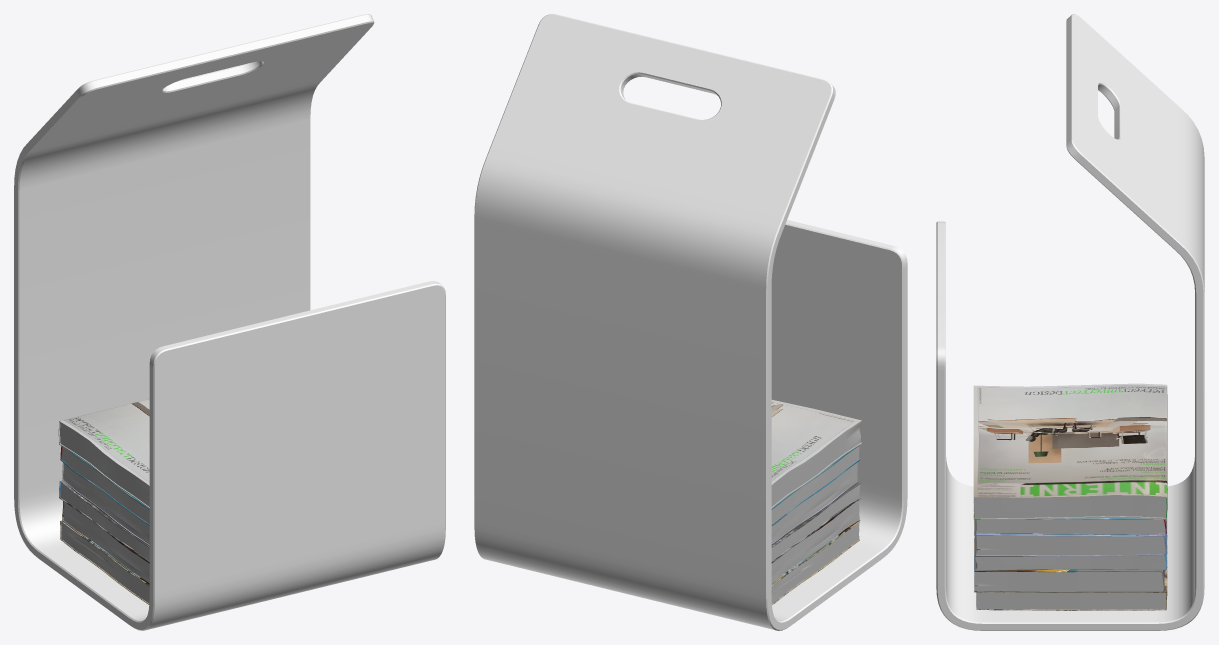
Rendered from Artek_Kanto_Rack_m_mat(4).fbx.
The picture shows the model from 3 angles, left to right: view 1: azimuth 30°, elevation 25°; view 2: azimuth 150°, elevation 25°; view 3: azimuth 270°, elevation 25°; orthographic projection. The views are drawn at different scales.
Visible parts, largest first — view 1: Artek_Kanto_Rack_m_mat4; view 2: Artek_Kanto_Rack_m_mat4; view 3: Artek_Kanto_Rack_m_mat4.
Part boxes in pixels (box(x1,y1,x2,y2)): Artek_Kanto_Rack_m_mat4: box(14, 14, 445, 630); Artek_Kanto_Rack_m_mat4: box(474, 14, 907, 630); Artek_Kanto_Rack_m_mat4: box(936, 14, 1204, 630).
Size of the model in its own units: 34 by 28.3 by 56.5.
